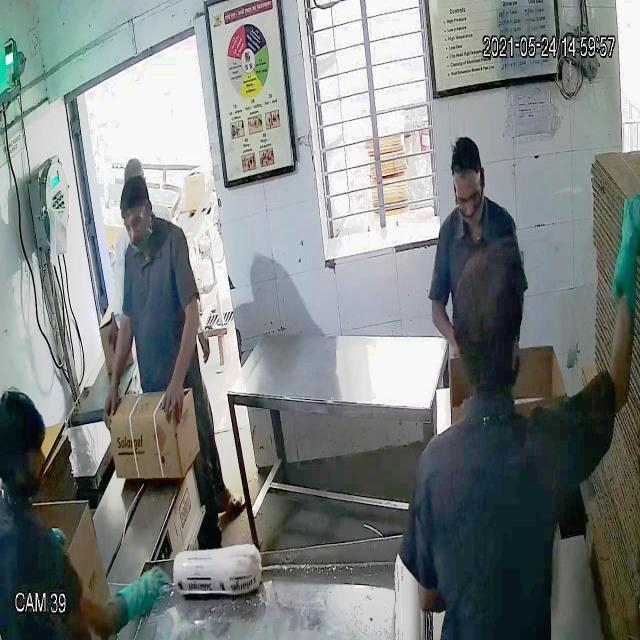glasses: (120, 210, 148, 237)
